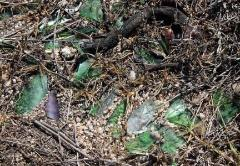glass: (12, 59, 126, 142), (126, 98, 202, 166)
